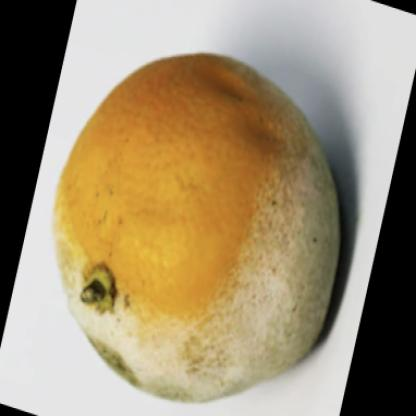rotten: (54, 53, 339, 408)
